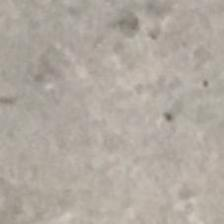Non_Crack: (24, 14, 209, 224)
